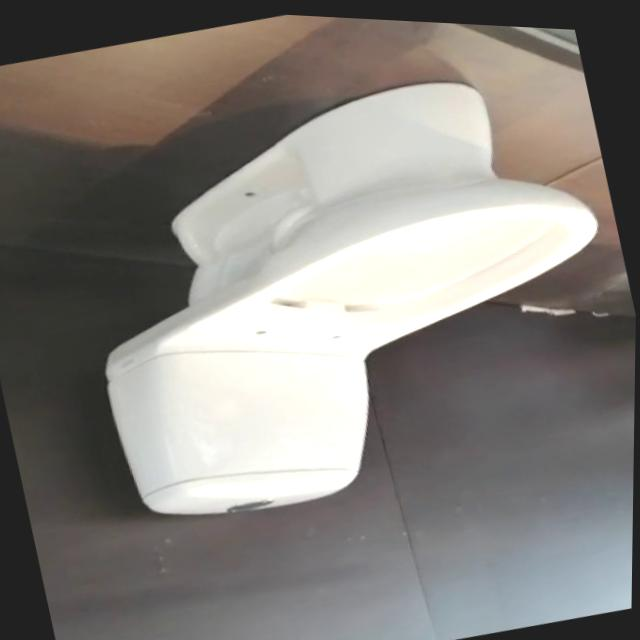toilet: (51, 30, 640, 552)
